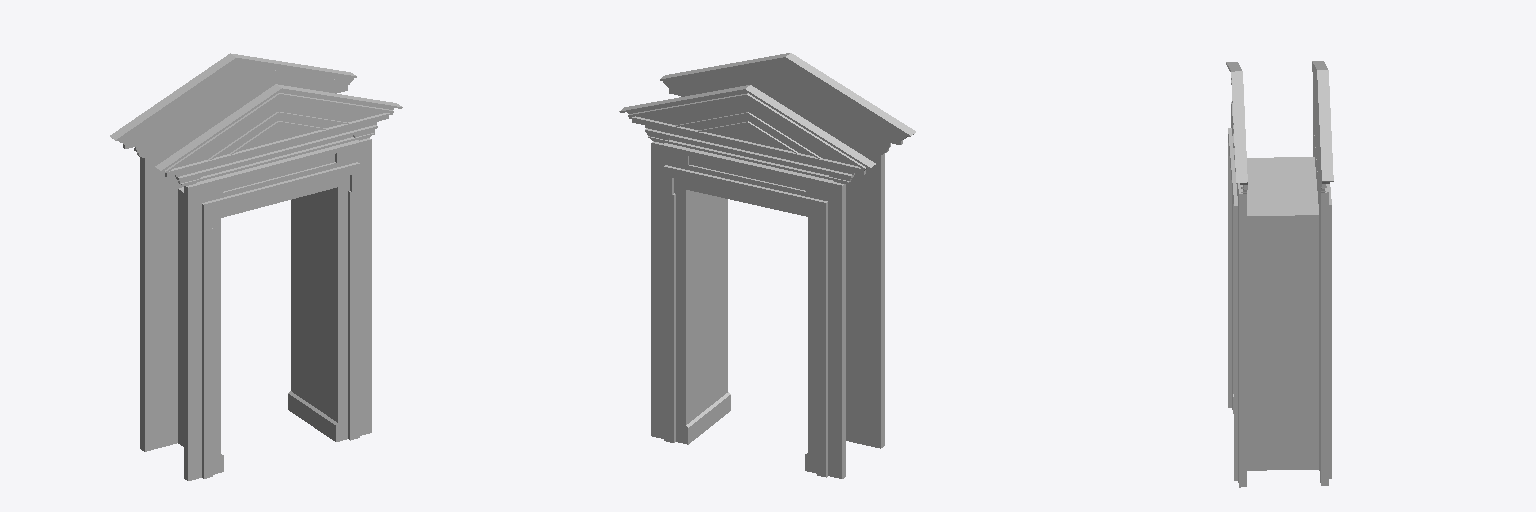
The model's file is Door.obj.
3 renders of one model, left to right at view 1: azimuth 30°, elevation 25°; view 2: azimuth 150°, elevation 25°; view 3: azimuth 270°, elevation 25°, orthographic.
Parts seen in each view (by area): view 1: Object001 Mesh Mesh, portal008 Mesh Mesh; view 2: portal008 Mesh Mesh, Object001 Mesh Mesh; view 3: portal008 Mesh Mesh, Object001 Mesh Mesh.
Part boxes in pixels (x1,y1,x2,y2): Object001 Mesh Mesh: (155,84,402,480); portal008 Mesh Mesh: (110,53,356,451); portal008 Mesh Mesh: (619,85,875,478); Object001 Mesh Mesh: (660,53,915,448); portal008 Mesh Mesh: (1247,61,1333,485); Object001 Mesh Mesh: (1226,62,1247,487).
Bounding box in the file's own units: 6.67 × 9.45 × 2.49.